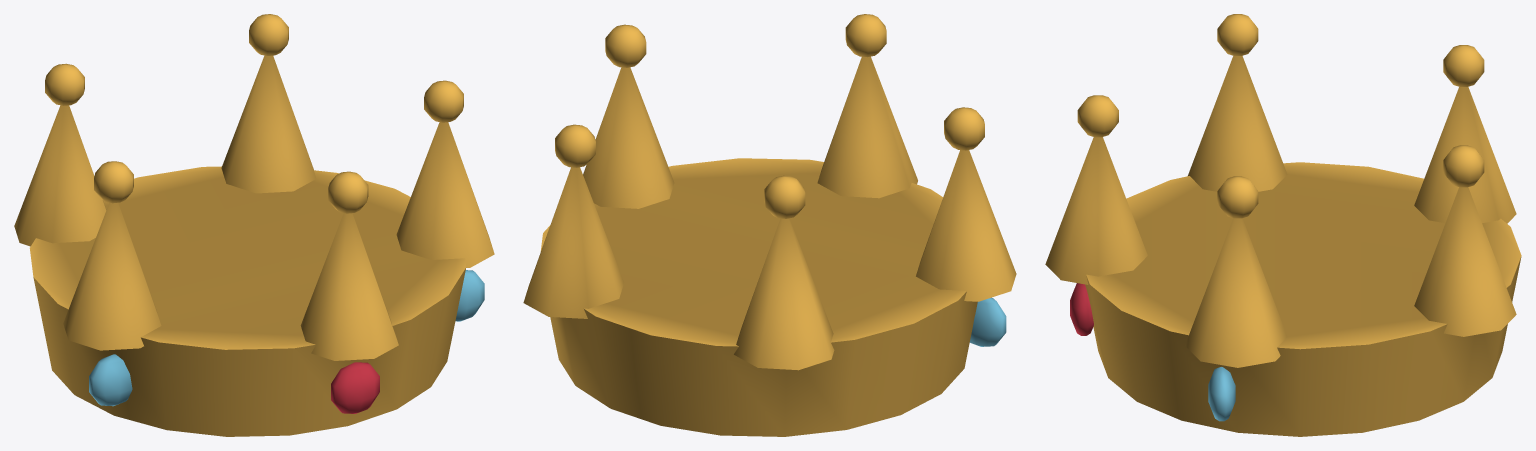
File: icon_crown.glb
3 renders of one model, left to right at view 1: azimuth 30°, elevation 25°; view 2: azimuth 150°, elevation 25°; view 3: azimuth 270°, elevation 25°, orthographic. The views are drawn at different scales.
Parts seen in each view (by area): view 1: Crown; view 2: Crown; view 3: Crown.
Part boxes in pixels (box(x1,y1,x2,y2)): Crown: box(14, 14, 494, 436); Crown: box(523, 14, 1016, 436); Crown: box(1045, 14, 1521, 436).
Size of the model in its own units: 1.02 by 0.585 by 0.99.
1 material, 1 textured.
